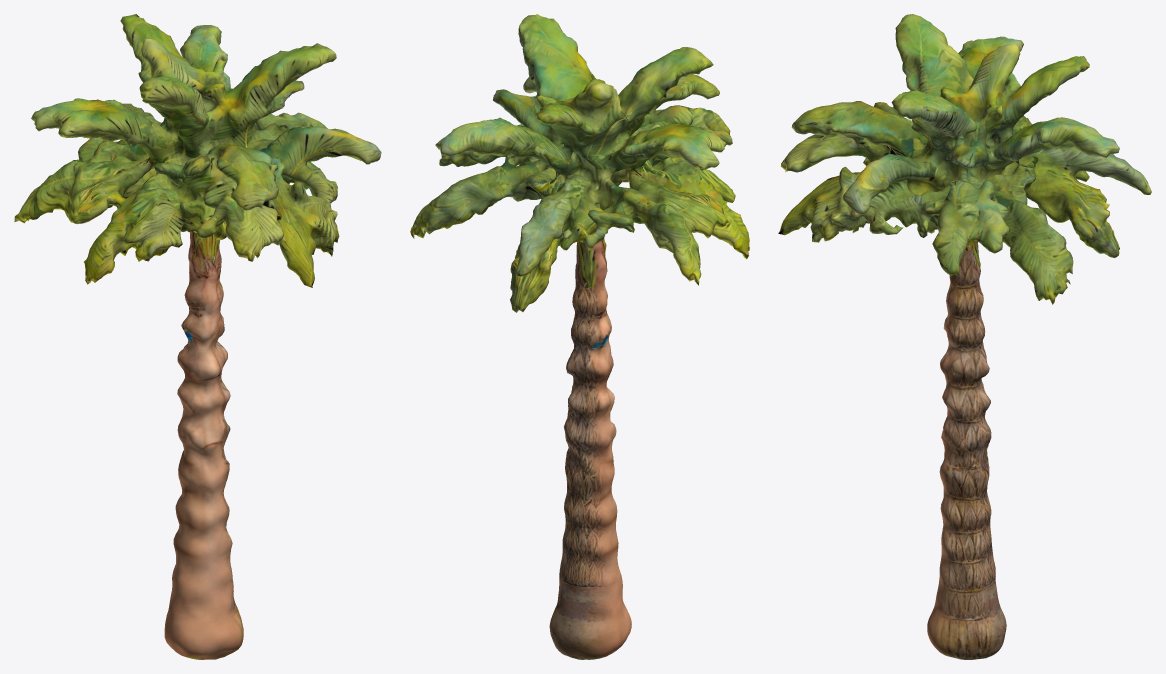
Rendered from a_beautiful_calm_palm_0714051539_refine.glb.
3 views of the same model, side by side, from view 1: azimuth 30°, elevation 25°; view 2: azimuth 150°, elevation 25°; view 3: azimuth 270°, elevation 25° (orthographic). The views are drawn at different scales.
Bounding box in the file's own units: 0.6296 × 1.2 × 0.6724.
Materials: 1 (1 with a texture image).
